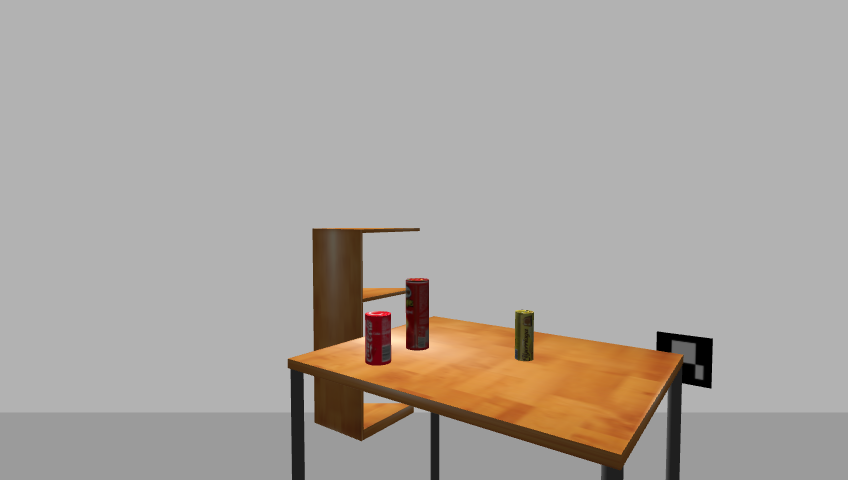aruco marker: (651, 330, 717, 391)
biscuits pack: (513, 309, 535, 363)
bookshelf: (307, 224, 423, 446)
coke can: (363, 311, 394, 366)
dinner table: (281, 315, 691, 480)
pringles can: (404, 277, 431, 352)
